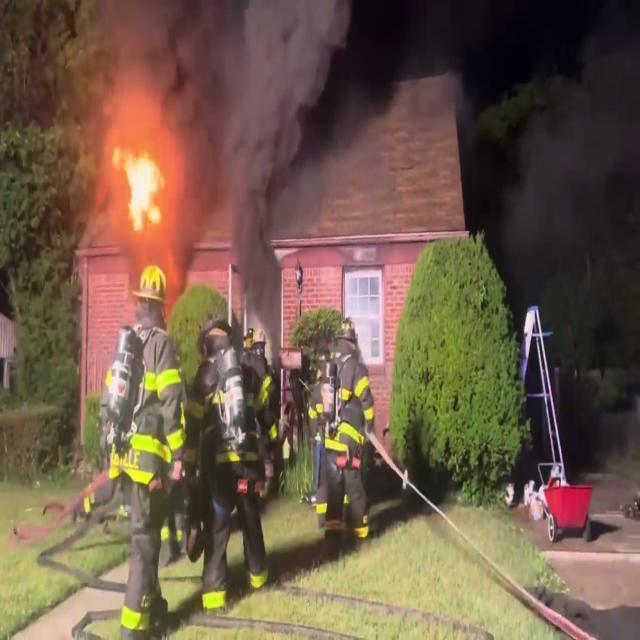Fire: (110, 131, 170, 233)
Smoke: (484, 0, 640, 430)
